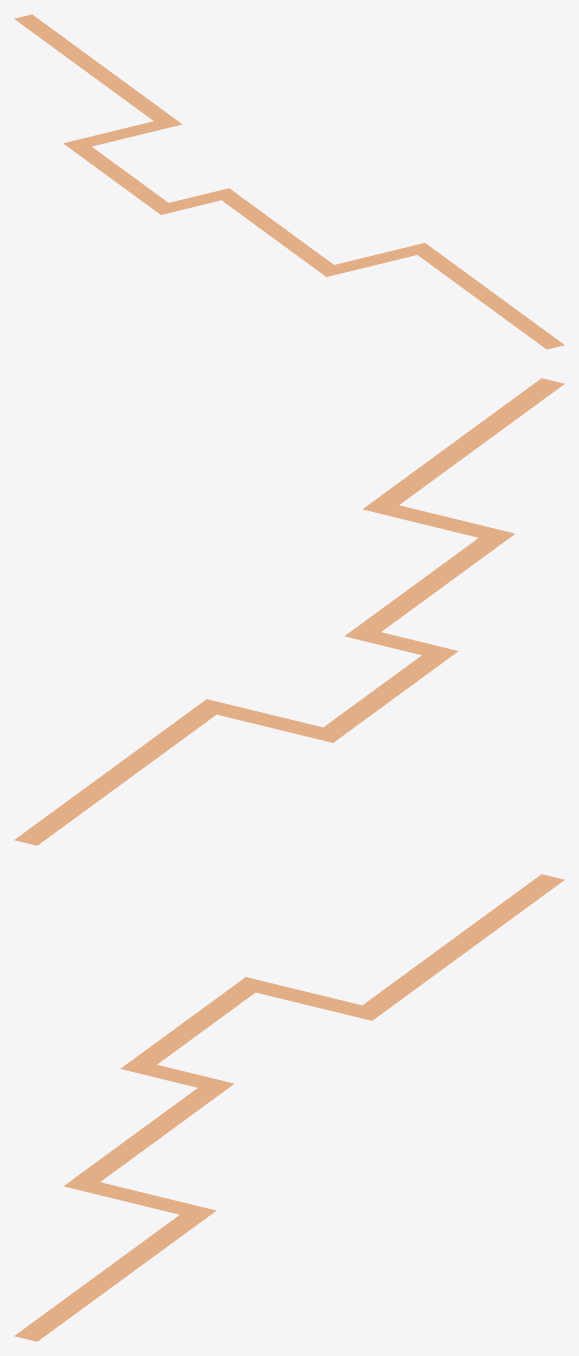
The model's file is rockpathh.fbx.
The picture shows the model from 3 angles, top to bottom: view 1: azimuth 30°, elevation 25°; view 2: azimuth 150°, elevation 25°; view 3: azimuth 330°, elevation 25°; orthographic projection. The views are drawn at different scales.
Visible parts, largest first — view 1: path.002; view 2: path.002; view 3: path.002.
Part boxes in pixels (left/top/right/bottom): path.002: left=14, top=14, right=564, bottom=349; path.002: left=14, top=378, right=564, bottom=845; path.002: left=14, top=874, right=564, bottom=1341.
Bounding box in the file's own units: 5600 × 0.0044 × 27000.
